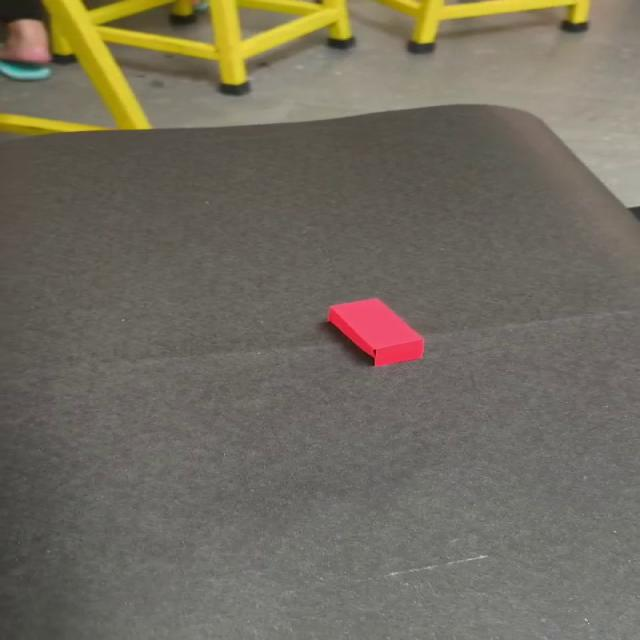red block: (326, 297, 426, 367)
